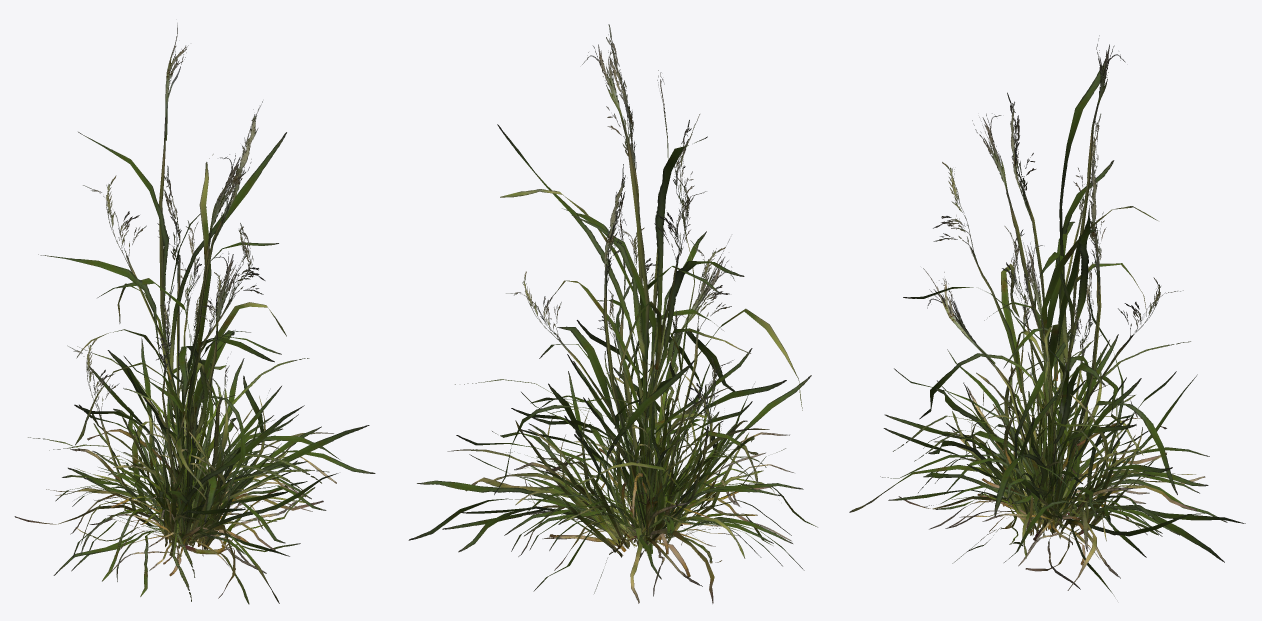
The model's file is grass.glb.
The picture shows the model from 3 angles, left to right: view 1: azimuth 30°, elevation 25°; view 2: azimuth 150°, elevation 25°; view 3: azimuth 270°, elevation 25°; orthographic projection. The views are drawn at different scales.
Visible parts, largest first — view 1: grass_medium_01_mid_c_LOD0, grass_medium_01_mid_b_LOD0, grass_medium_01_tall_b_LOD0, grass_medium_01_tall_a_LOD0, grass_medium_01_small_a_LOD0, grass_medium_01_tall_c_LOD0, grass_medium_01_small_b_LOD0; view 2: grass_medium_01_mid_c_LOD0, grass_medium_01_mid_b_LOD0, grass_medium_01_tall_a_LOD0, grass_medium_01_tall_b_LOD0, grass_medium_01_tall_c_LOD0, grass_medium_01_small_a_LOD0, grass_medium_01_small_b_LOD0; view 3: grass_medium_01_mid_c_LOD0, grass_medium_01_mid_b_LOD0, grass_medium_01_tall_a_LOD0, grass_medium_01_tall_b_LOD0, grass_medium_01_tall_c_LOD0, grass_medium_01_small_a_LOD0, grass_medium_01_small_b_LOD0.
Part boxes in pixels (left/top/right/bottom): grass_medium_01_mid_c_LOD0: left=70, top=350, right=375, bottom=604; grass_medium_01_mid_b_LOD0: left=14, top=267, right=336, bottom=603; grass_medium_01_tall_b_LOD0: left=75, top=101, right=286, bottom=520; grass_medium_01_tall_a_LOD0: left=38, top=23, right=286, bottom=545; grass_medium_01_small_a_LOD0: left=49, top=330, right=329, bottom=601; grass_medium_01_tall_c_LOD0: left=67, top=165, right=339, bottom=545; grass_medium_01_small_b_LOD0: left=28, top=378, right=321, bottom=596; grass_medium_01_mid_c_LOD0: left=408, top=319, right=793, bottom=593; grass_medium_01_mid_b_LOD0: left=447, top=225, right=811, bottom=603; grass_medium_01_tall_a_LOD0: left=494, top=34, right=744, bottom=548; grass_medium_01_tall_b_LOD0: left=500, top=24, right=802, bottom=503; grass_medium_01_tall_c_LOD0: left=539, top=164, right=757, bottom=558; grass_medium_01_small_a_LOD0: left=455, top=282, right=817, bottom=579; grass_medium_01_small_b_LOD0: left=504, top=357, right=804, bottom=596; grass_medium_01_mid_c_LOD0: left=883, top=294, right=1245, bottom=596; grass_medium_01_mid_b_LOD0: left=849, top=251, right=1208, bottom=590; grass_medium_01_tall_a_LOD0: left=903, top=35, right=1183, bottom=532; grass_medium_01_tall_b_LOD0: left=919, top=92, right=1157, bottom=510; grass_medium_01_tall_c_LOD0: left=923, top=152, right=1143, bottom=531; grass_medium_01_small_a_LOD0: left=914, top=316, right=1199, bottom=549; grass_medium_01_small_b_LOD0: left=893, top=335, right=1227, bottom=558.
Bounding box in the file's own units: 0.2043 × 0.3384 × 0.2214.
Materials: 1 (1 with a texture image).
